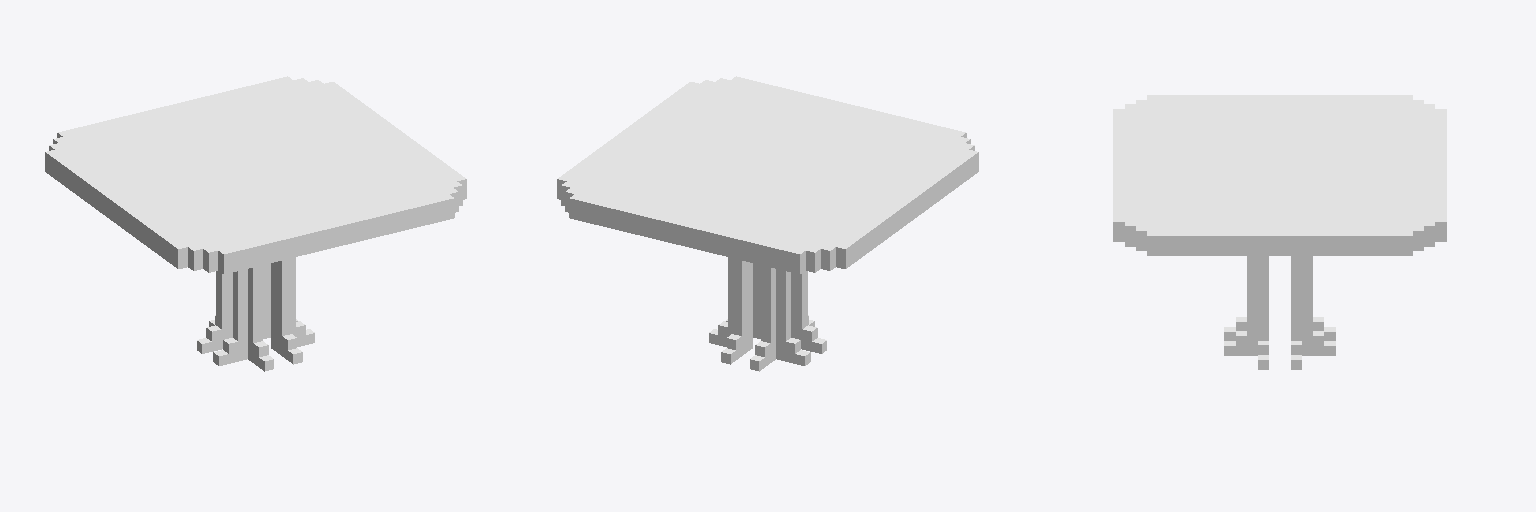
Rendered from smalldiningtable.obj.
3 views of the same model, side by side, from view 1: azimuth 30°, elevation 25°; view 2: azimuth 150°, elevation 25°; view 3: azimuth 270°, elevation 25° (orthographic).
Parts seen in each view (by area): view 1: object 1; view 2: object 1; view 3: object 1.
Boxes of the visible parts, x1=… form: object 1: x1=45, y1=76, x2=466, y2=371; object 1: x1=557, y1=76, x2=978, y2=371; object 1: x1=1113, y1=95, x2=1446, y2=369.
Size of the model in its own units: 3 by 1.8 by 3.